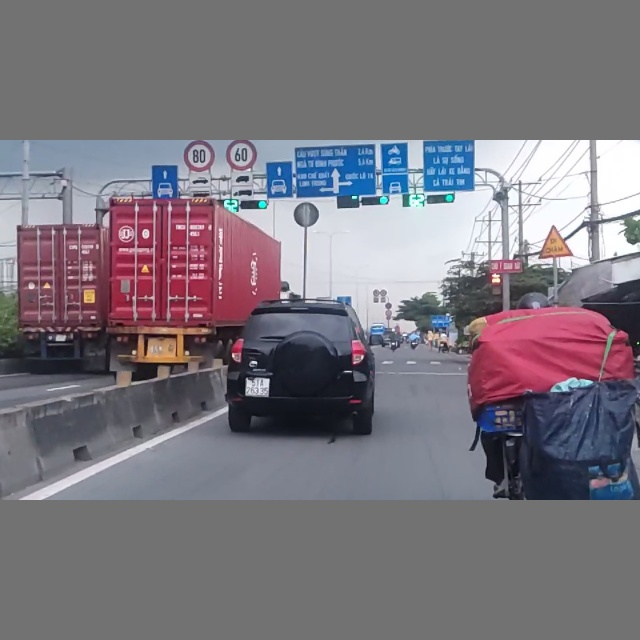P.127*60: (225, 141, 257, 171)
P.127*80: (183, 141, 215, 172)
W.245a: (539, 225, 574, 259)
